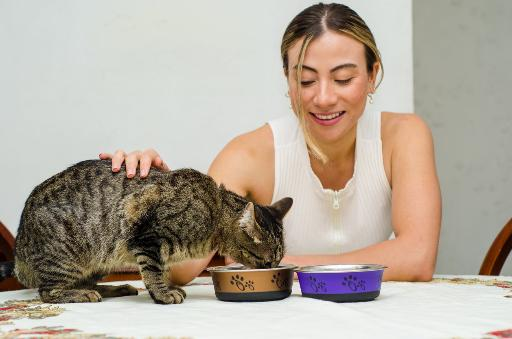cat_eating: (0, 160, 295, 304)
